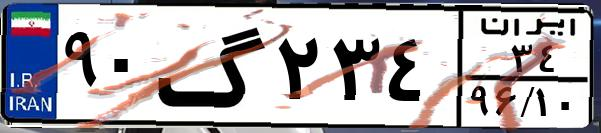0: (110, 28, 156, 98), (560, 70, 590, 125)
1: (535, 70, 560, 125)
2: (270, 28, 330, 110)
3: (330, 28, 385, 110), (508, 27, 537, 80)
4: (385, 28, 445, 110), (537, 27, 568, 80)
6: (495, 70, 520, 125)
9: (57, 26, 110, 100), (470, 70, 495, 125)
گ: (156, 12, 270, 120)
